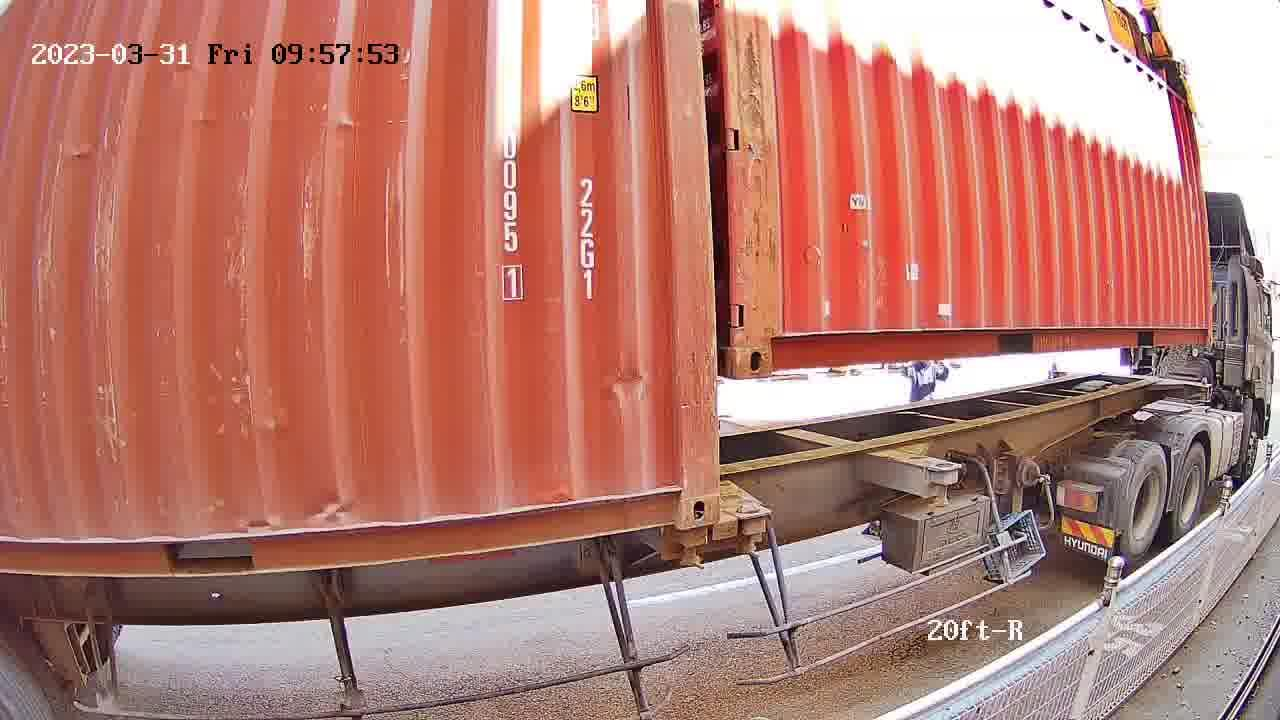Cone: (731, 502, 768, 559), (671, 527, 711, 572)
Hole_L: (735, 303, 805, 380)
Hole_R: (633, 445, 720, 531)
Tire: (1120, 446, 1169, 554), (1172, 445, 1207, 535)
